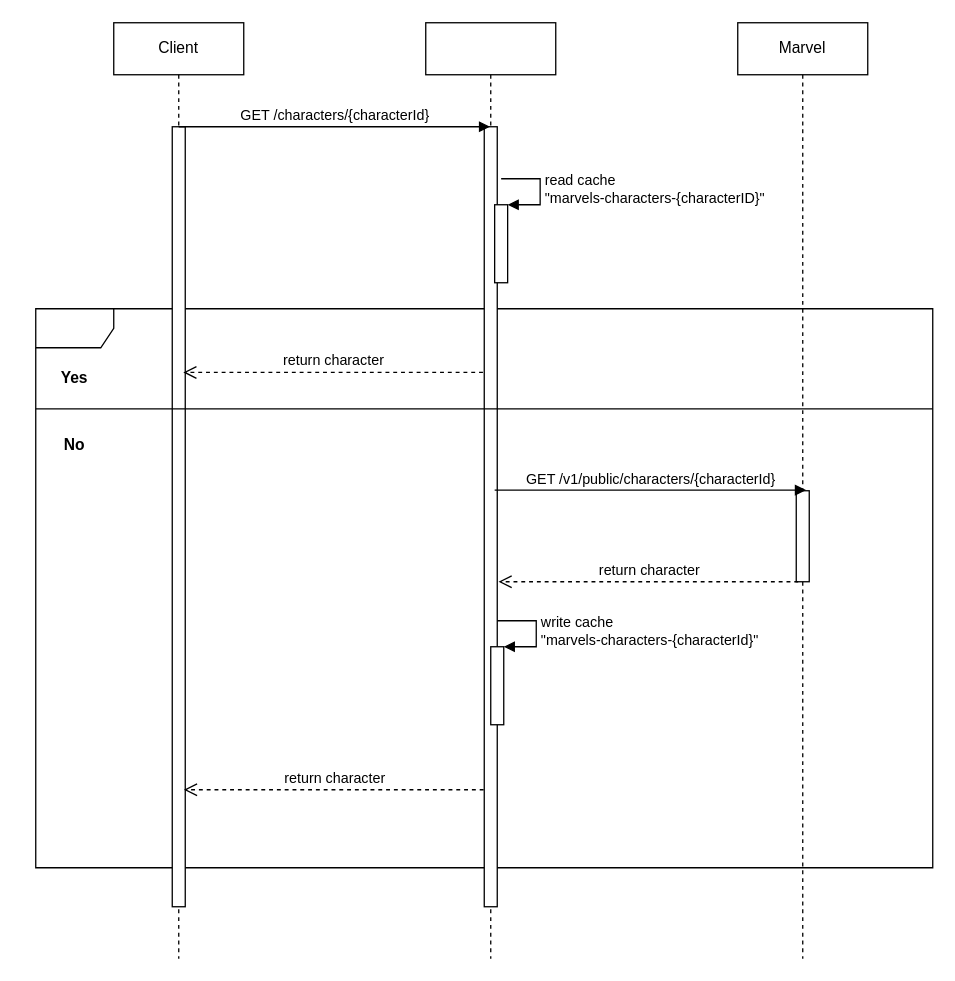
This 955x981 diagram has some shape labels left out. The box of each missing label's shape, as (x1, y1, x2, y2) in pixels:
Cache Hit?: (34, 307, 933, 868)
Xmarvel: (424, 21, 556, 959)
